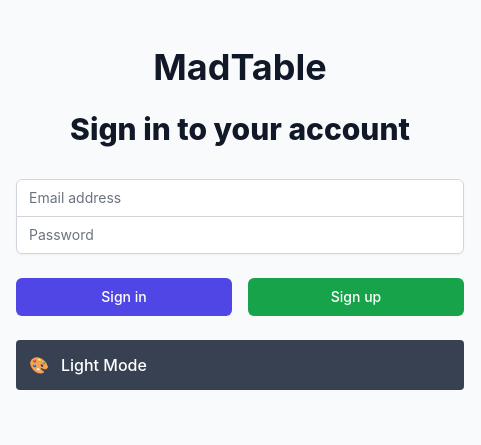
Test case: Login › handles sign up error
Type "exists@example.com" into the field with placeholder "Email address".
click(240, 198); type("exists@example.com")  # box [16, 178, 464, 216]
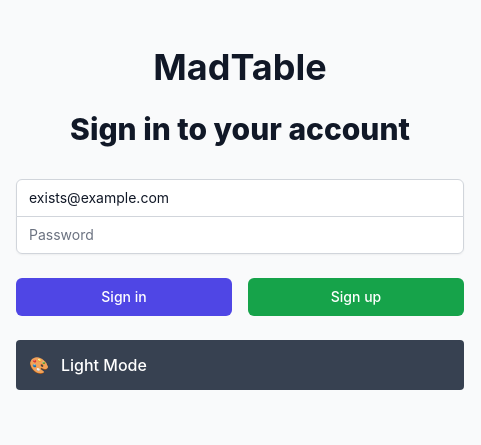
Type "pass123" into the password field with placeholder "Password".
click(240, 234); type("pass123")  # box [16, 216, 464, 254]
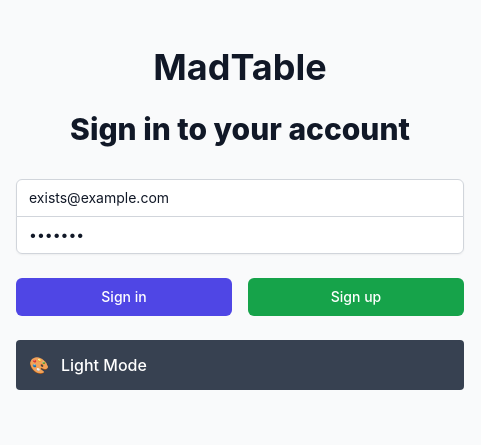
Click the button "Sign up".
click(356, 296)  # box [248, 278, 464, 316]
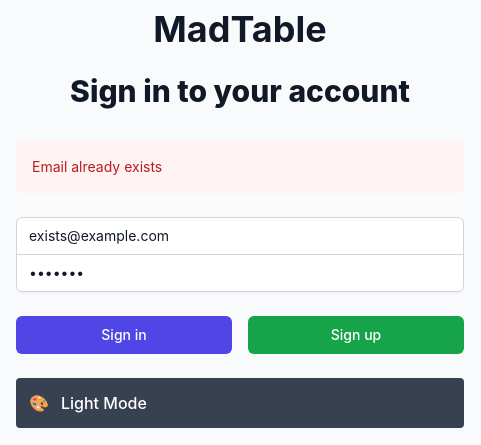
Result: the text "Email already exists" is shown at [32, 158, 162, 174]
